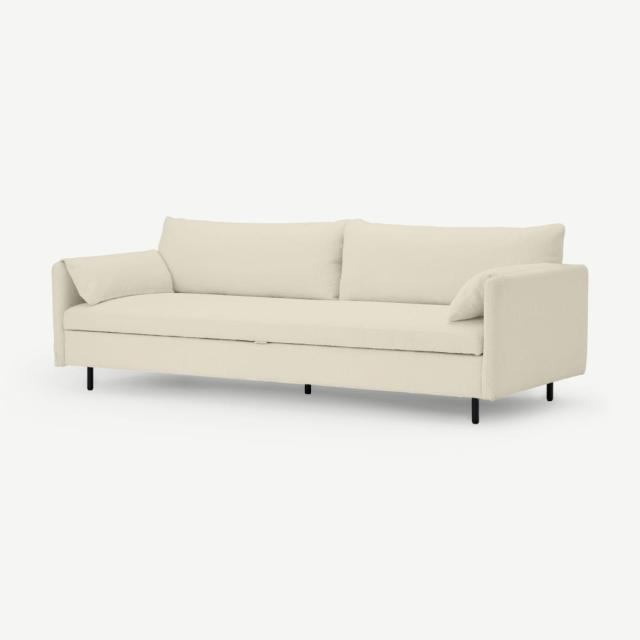Soffa: (40, 208, 587, 434)
